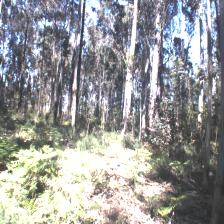trunktrack_idkeyframe: (201, 90, 210, 182)
